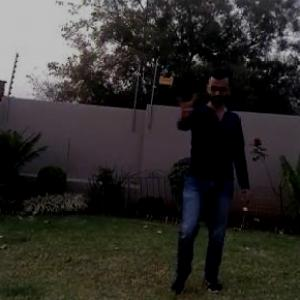takeoff-hand: (166, 87, 200, 122)
